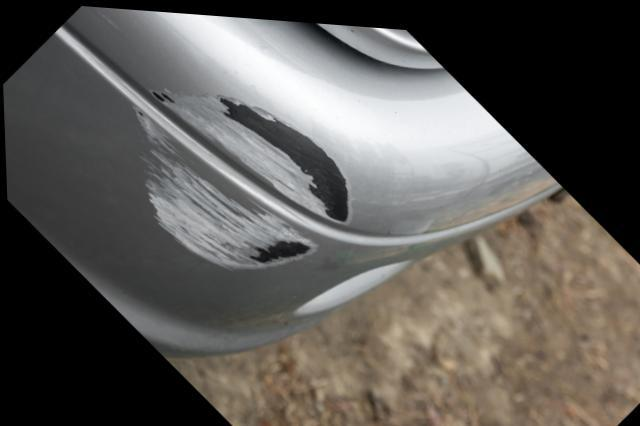scratch: (135, 80, 353, 270)
